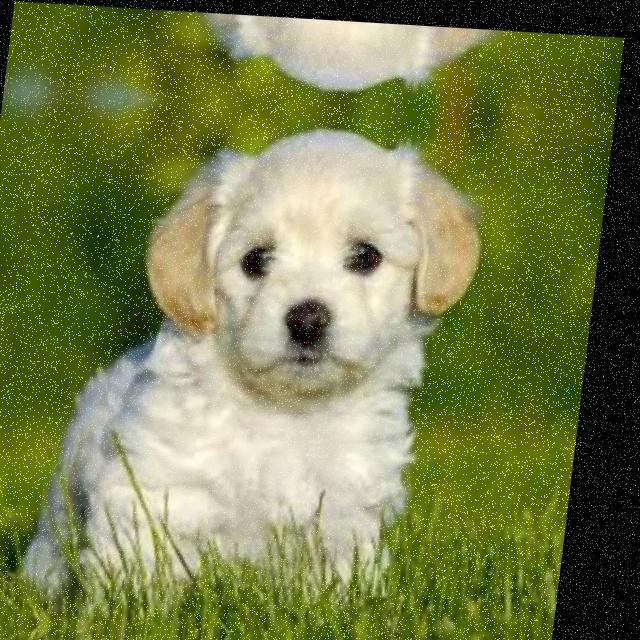dog: (132, 107, 490, 444), (172, 11, 500, 111)
